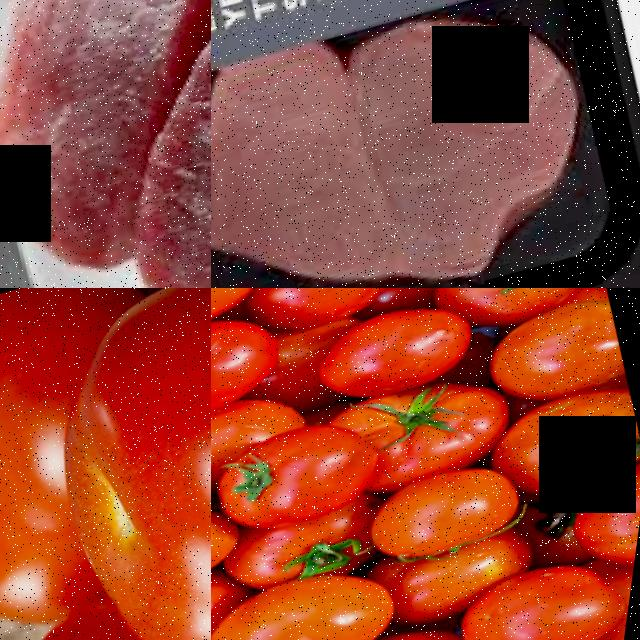tomato: (0, 288, 211, 640), (211, 391, 409, 549), (0, 530, 211, 640), (211, 534, 428, 640), (211, 289, 305, 440)
tuna: (329, 0, 640, 288), (211, 17, 445, 288), (0, 0, 211, 288), (60, 0, 211, 288)
